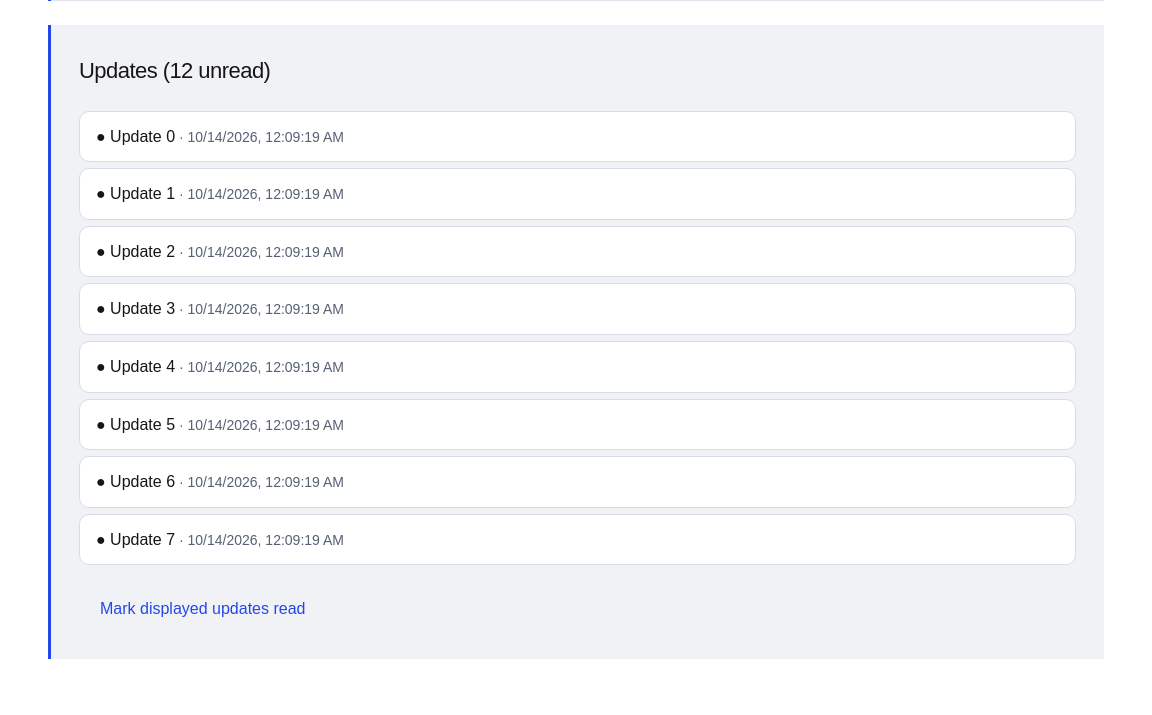
Test: marks the eight visible IDs and leaves unseen updates unread
The image size is (1152, 715).
(page scrolled)
Click the button "Mark displayed updates read".
click(203, 609)  # box top-left (79, 585), bottom-right (326, 633)
(page scrolled)
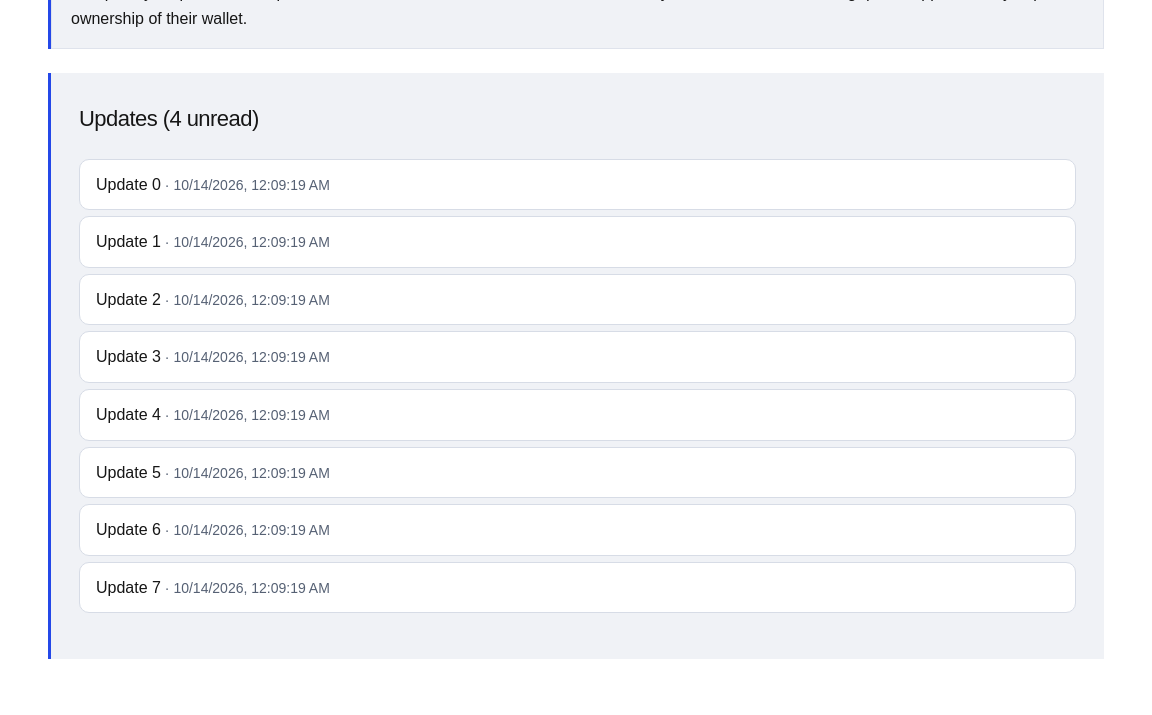
Expected: the element named "Notifications" shows "4 unread", top-left (163, 106), bottom-right (259, 131)
Expected: the link "● Update 0· 10/14/2026, 12:09:19 AM" no longer shows "●"
Expected: the text "Mark displayed updates read" is gone
